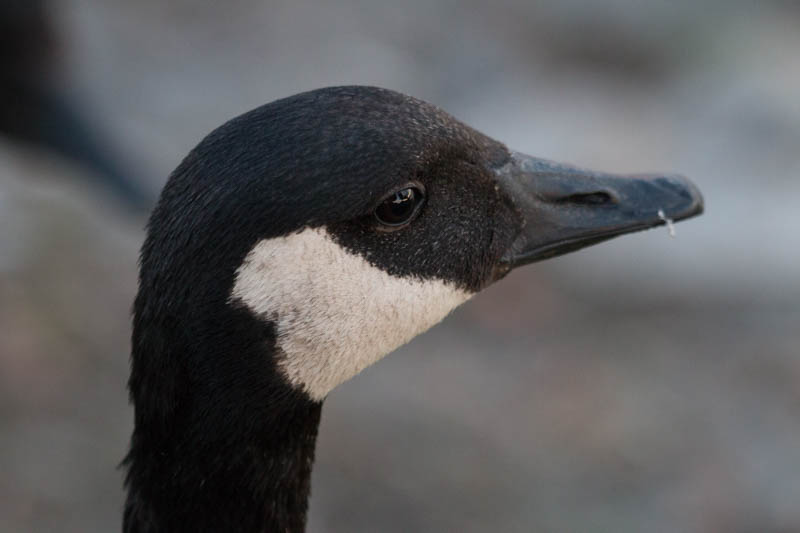goose-head: (131, 87, 704, 403)
